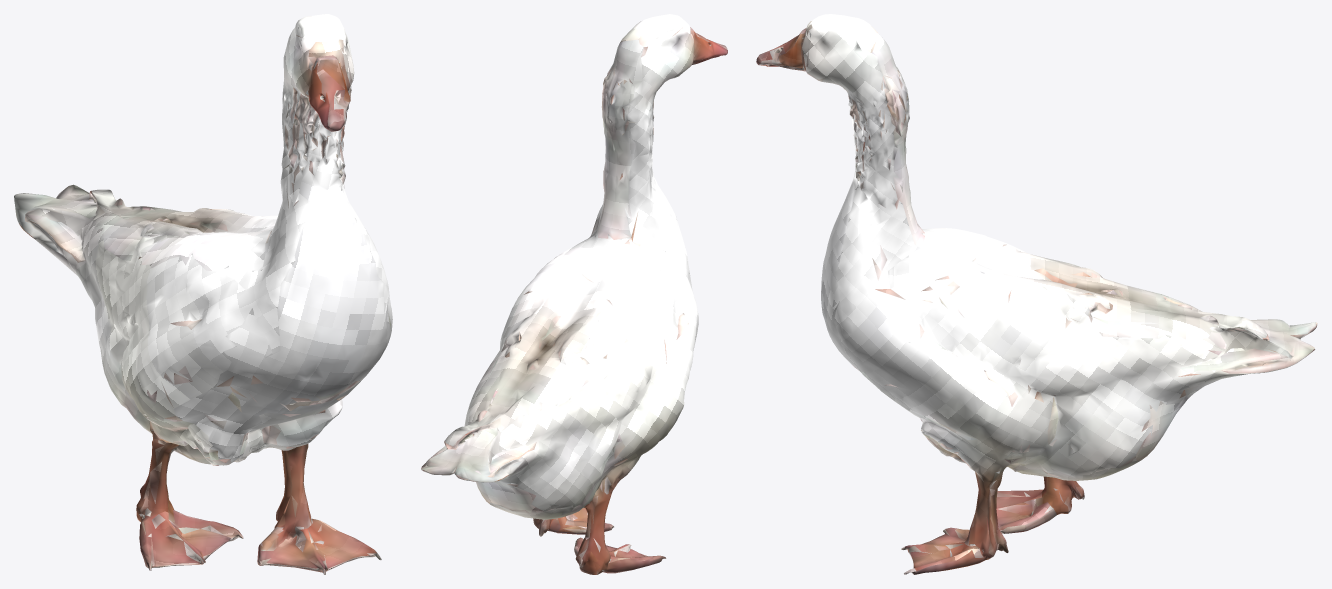
Rendered from kit_goose_standing_a.glb.
3 views of the same model, side by side, from view 1: azimuth 30°, elevation 25°; view 2: azimuth 150°, elevation 25°; view 3: azimuth 270°, elevation 25° (orthographic). The views are drawn at different scales.
Parts seen in each view (by area): view 1: Mesh1.0; view 2: Mesh1.0; view 3: Mesh1.0.
Part boxes in pixels (x1,y1,x2,y2): Mesh1.0: [14, 14, 392, 574]; Mesh1.0: [421, 14, 727, 574]; Mesh1.0: [756, 14, 1317, 574].
Size of the model in its own units: 0.3297 by 0.85 by 0.8365.
1 material, 1 textured.
